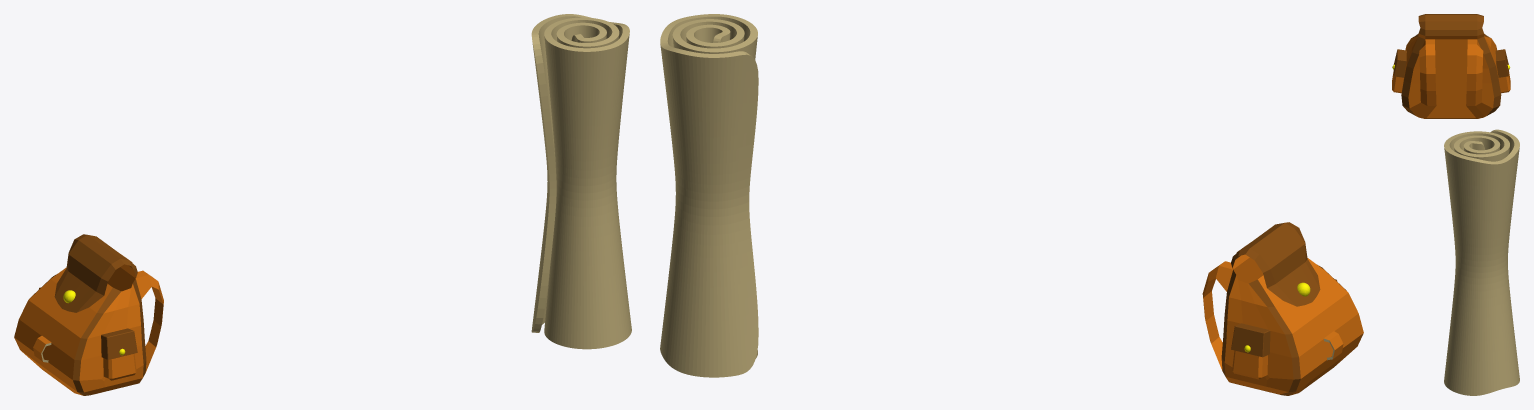
File: アイテム鞄blend.fbx
3 renders of one model, left to right at view 1: azimuth 30°, elevation 25°; view 2: azimuth 150°, elevation 25°; view 3: azimuth 270°, elevation 25°, orthographic. The views are drawn at different scales.
Visible parts, largest first — view 1: Spiral, Cube; view 2: Spiral, Cube; view 3: Spiral, Cube.
Part boxes in pixels (<box>): Spiral: <box>531,14,631,349</box>; Cube: <box>14,234,163,395</box>; Spiral: <box>660,14,758,377</box>; Cube: <box>1202,222,1363,395</box>; Spiral: <box>1444,129,1519,395</box>; Cube: <box>1392,14,1510,118</box>.
Size of the model in its own units: 1572 by 740 by 363.
